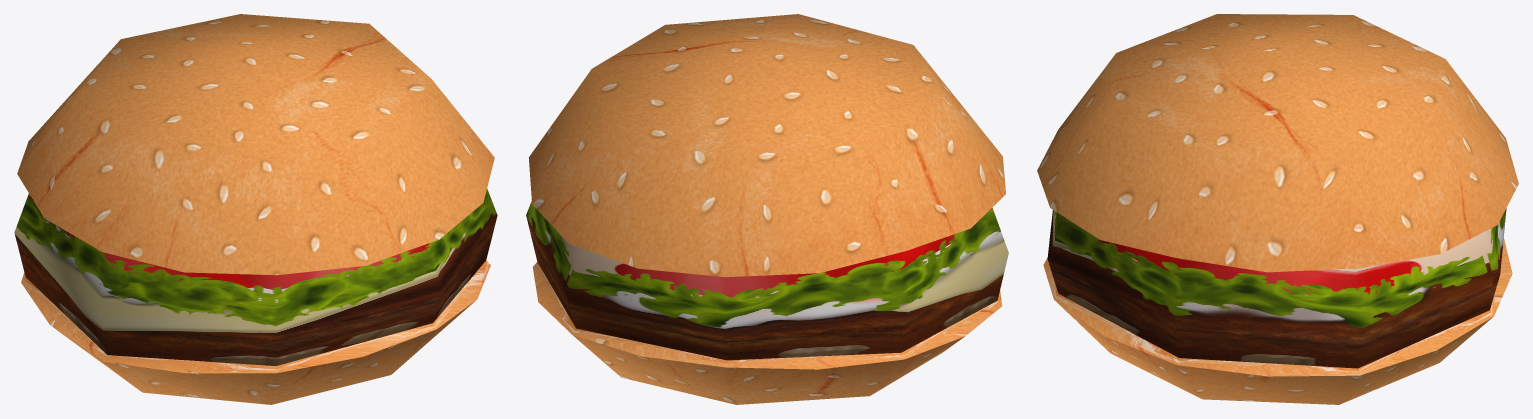
Rendered from Chaos Burger.FBX.
The picture shows the model from 3 angles, left to right: view 1: azimuth 30°, elevation 25°; view 2: azimuth 150°, elevation 25°; view 3: azimuth 270°, elevation 25°; orthographic projection.
Parts seen in each view (by area): view 1: Chaos Burger; view 2: Chaos Burger; view 3: Chaos Burger.
Boxes of the visible parts, x1,y1,x2,y2 form: Chaos Burger: [14, 14, 497, 404]; Chaos Burger: [526, 14, 1008, 404]; Chaos Burger: [1037, 14, 1518, 404].
Bounding box in the file's own units: 18.4 × 18.4 × 12.43.
